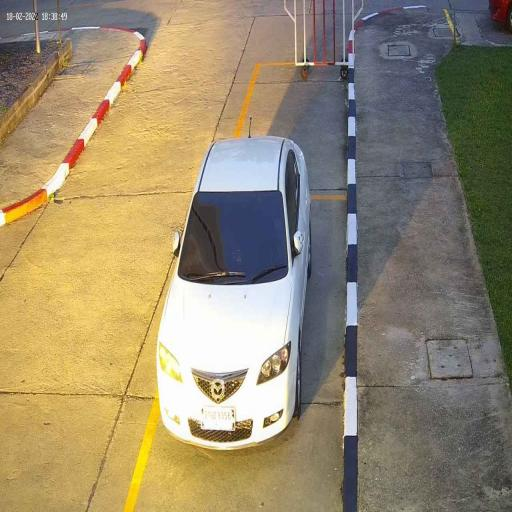car: (156, 134, 312, 453)
